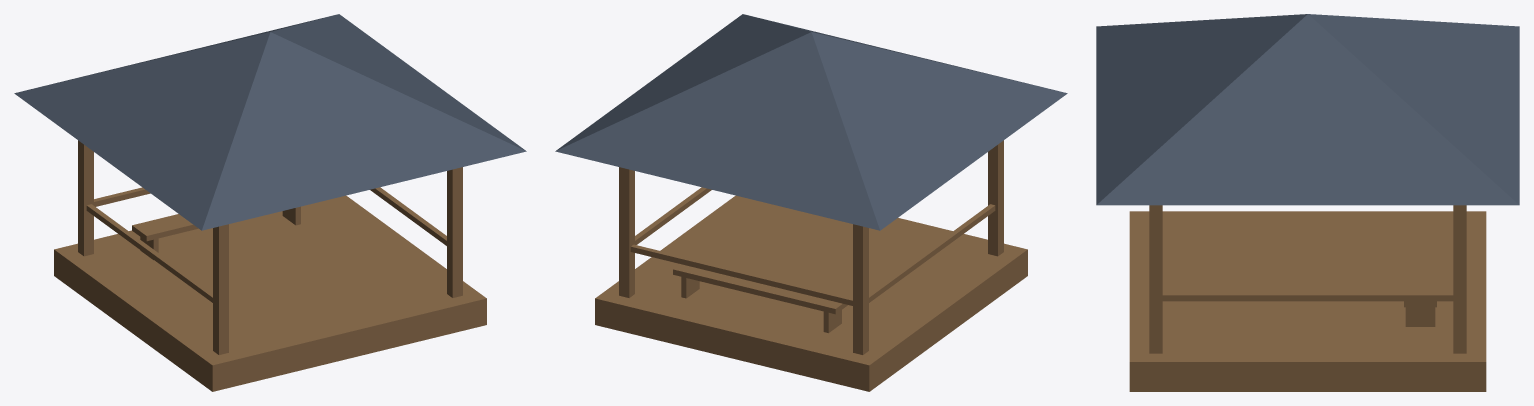
Rendered from lookout.glb.
The picture shows the model from 3 angles, left to right: view 1: azimuth 30°, elevation 25°; view 2: azimuth 150°, elevation 25°; view 3: azimuth 270°, elevation 25°; orthographic projection. The views are drawn at different scales.
Parts seen in each view (by area): view 1: lookout; view 2: lookout; view 3: lookout.
Part boxes in pixels (x1,y1,x2,y2): lookout: (14,14,526,391); lookout: (555,14,1067,391); lookout: (1096,14,1519,391).
Bounding box in the file's own units: 6.4 × 5.05 × 6.4.
